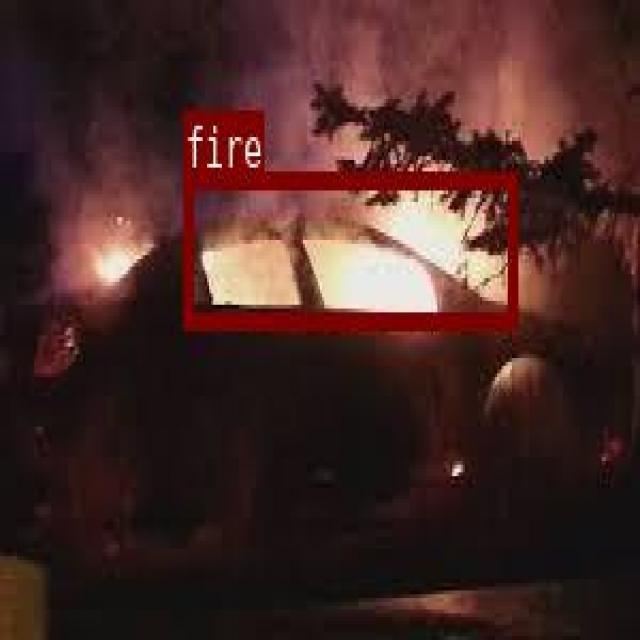fire: (183, 170, 516, 327)
